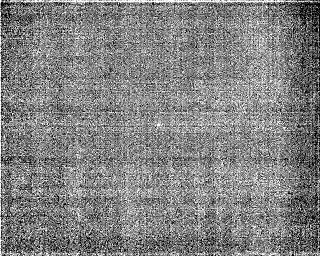AIRPLANE: (154, 120, 163, 131)
